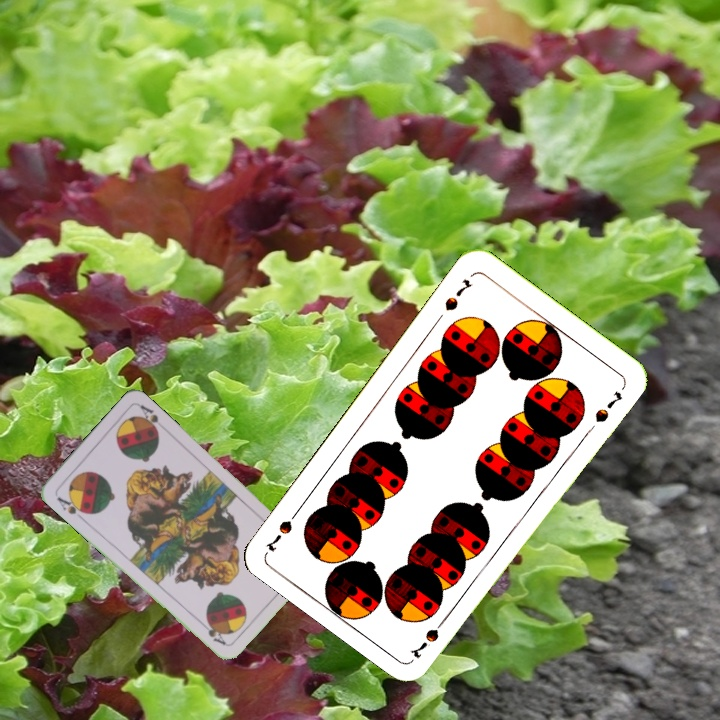S7: (408, 611, 451, 662), (440, 275, 475, 314)
SA: (53, 493, 90, 522)
